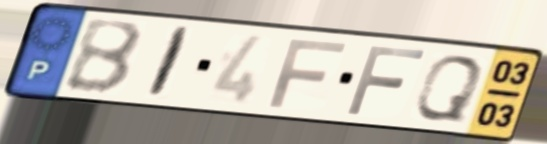4: (206, 33, 267, 108)
B: (61, 18, 146, 97)
F: (343, 43, 430, 118), (265, 37, 350, 111)
I: (142, 24, 196, 101)
Q: (410, 52, 487, 124)
